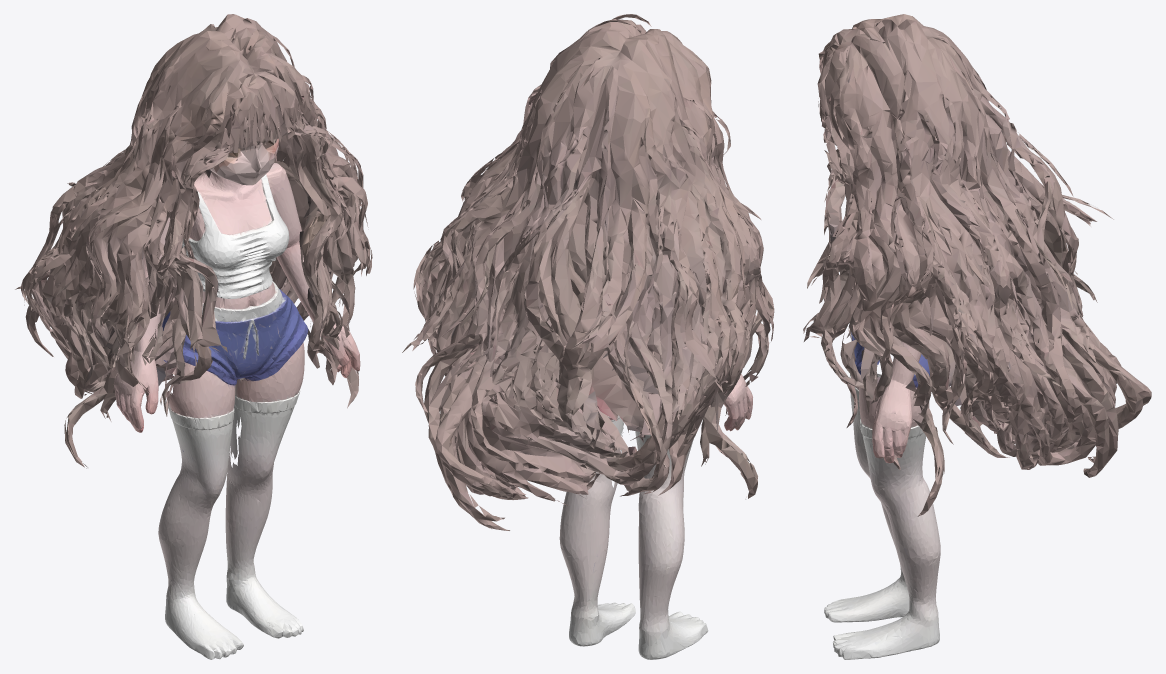
File: hero_girl_base.glb
The picture shows the model from 3 angles, left to right: view 1: azimuth 30°, elevation 25°; view 2: azimuth 150°, elevation 25°; view 3: azimuth 270°, elevation 25°; orthographic projection. The views are drawn at different scales.
Bounding box in the file's own units: 0.567 × 1.01 × 0.5129.
1 material, 1 textured.
